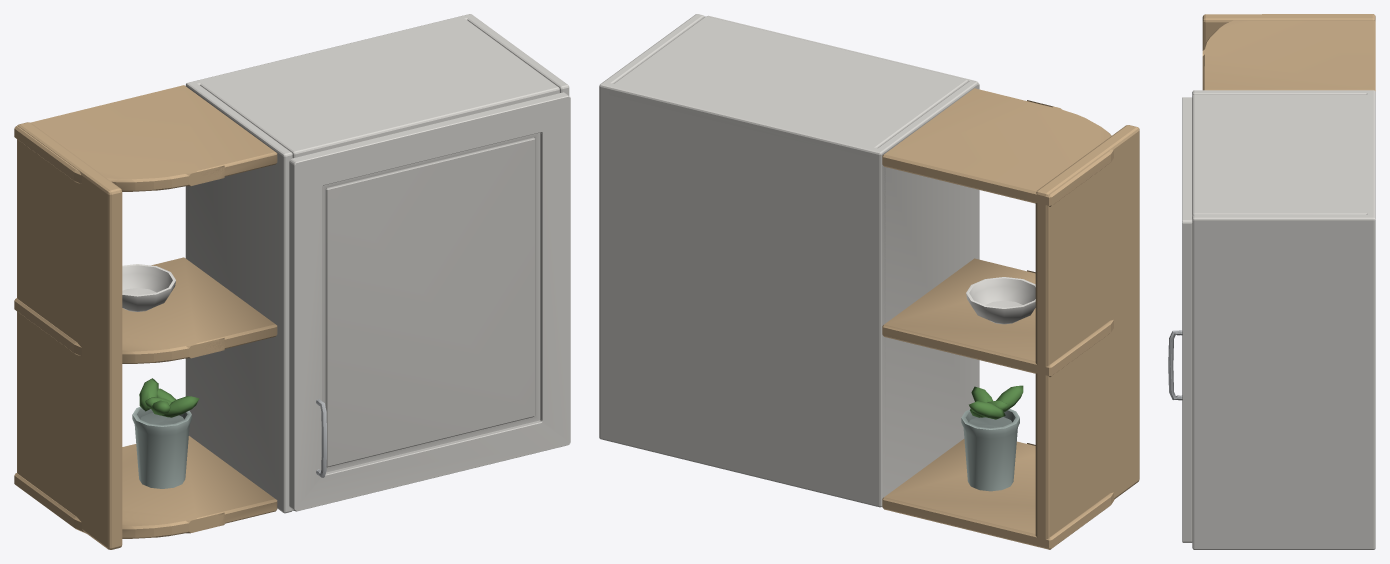
The model's file is wallCabinetCorner.glb.
3 renders of one model, left to right at view 1: azimuth 30°, elevation 25°; view 2: azimuth 150°, elevation 25°; view 3: azimuth 270°, elevation 25°, orthographic. The views are drawn at different scales.
Visible parts, largest first — view 1: body, door; view 2: body; view 3: body, door.
Boxes of the visible parts, left/top/right/bottom form: body: left=14, top=14, right=569, bottom=549; door: left=289, top=92, right=570, bottom=511; body: left=599, top=14, right=1139, bottom=549; body: left=1192, top=14, right=1375, bottom=549; door: left=1168, top=97, right=1192, bottom=542.
Bounding box in the file's own units: 0.96 × 0.7225 × 0.4075.
